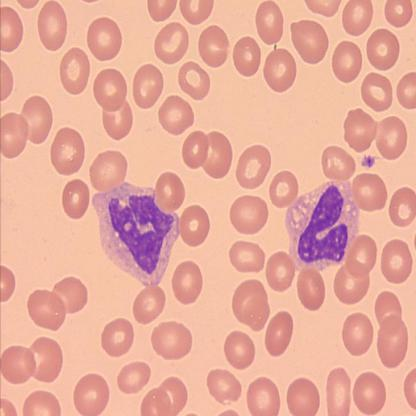Band Neutrophil: (90, 180, 181, 288), (283, 176, 362, 275)
